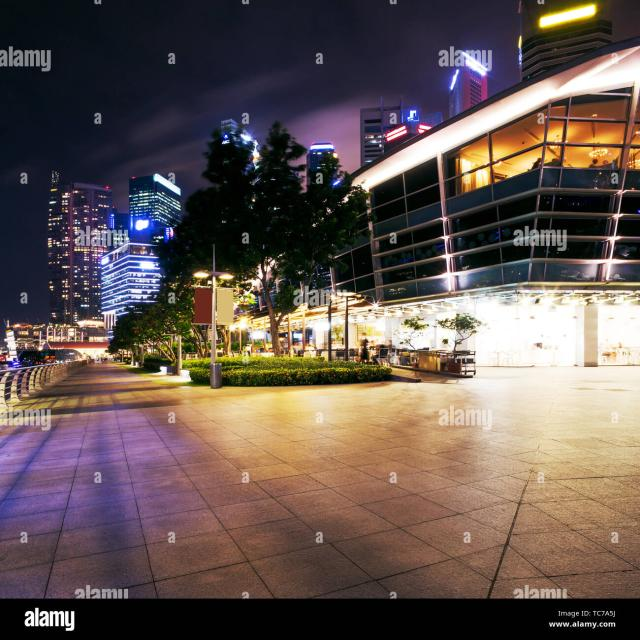lighting: (504, 285, 640, 312), (358, 292, 501, 315), (240, 306, 360, 332), (454, 49, 498, 82), (382, 113, 436, 139), (532, 10, 600, 27), (135, 253, 163, 276), (130, 213, 153, 235), (307, 141, 339, 156), (96, 249, 119, 269)
streetlight: (196, 266, 238, 283)
